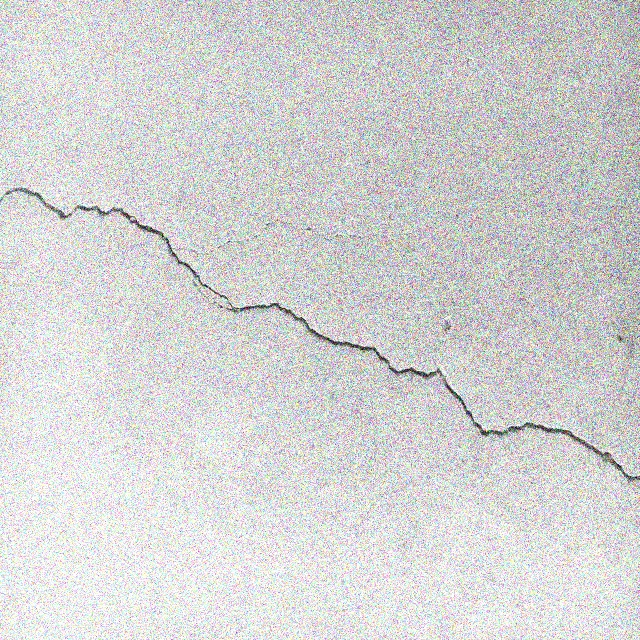SurfaceCrack: (0, 146, 639, 508)
